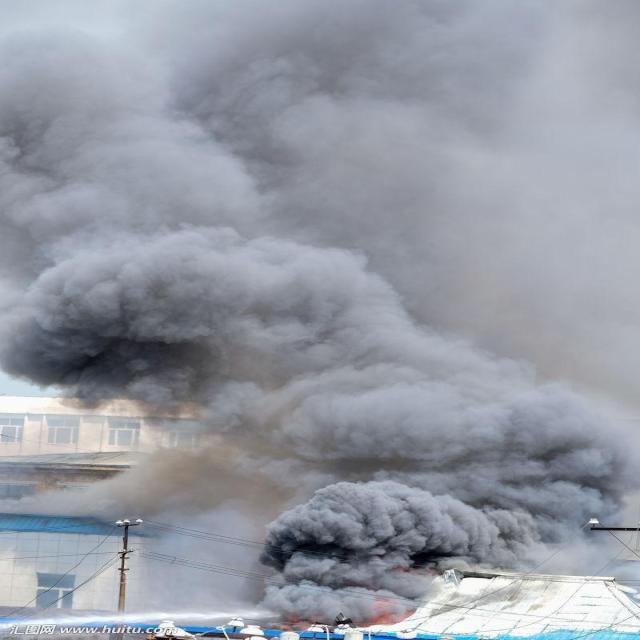Smoke: (1, 1, 640, 626)
